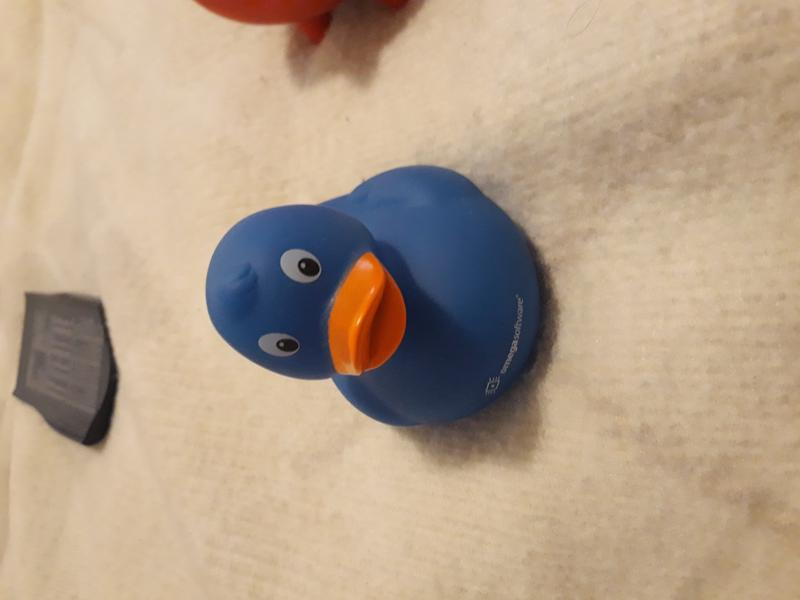plava_patkica: (195, 146, 583, 438)
